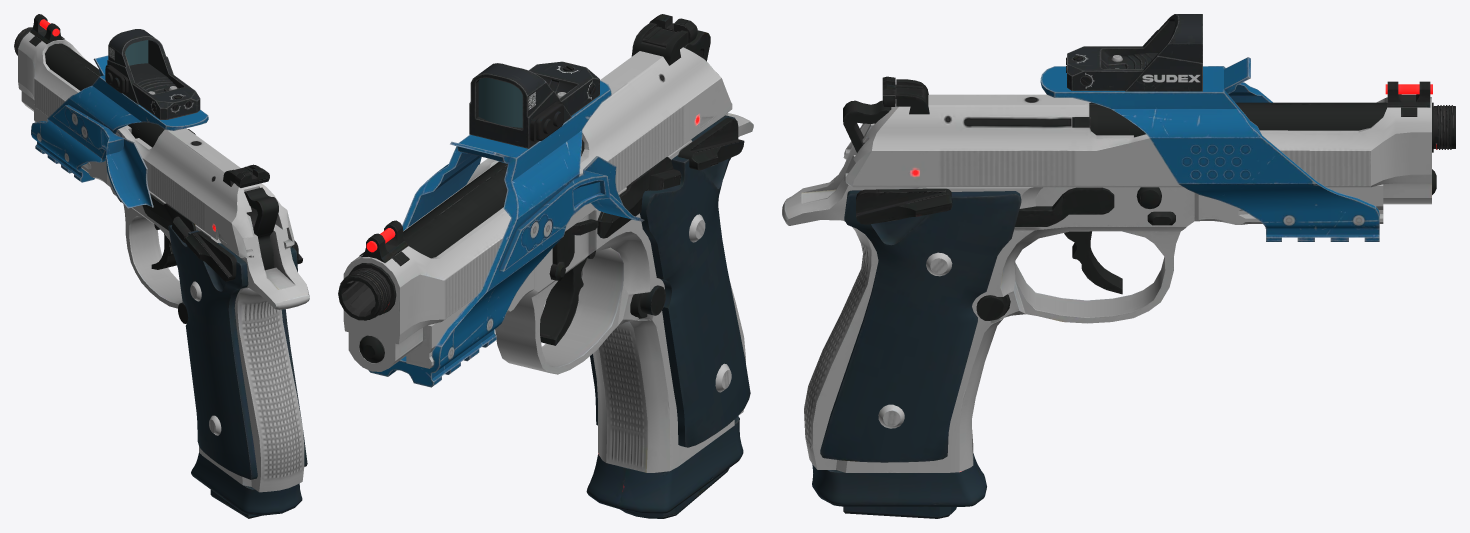
File: beretta92x.glb
3 views of the same model, side by side, from view 1: azimuth 30°, elevation 25°; view 2: azimuth 150°, elevation 25°; view 3: azimuth 270°, elevation 25° (orthographic). The views are drawn at different scales.
Parts seen in each view (by area): view 1: frame, slide, grips, wrap, dot, barrel, hammer, catch, glass, trigger; view 2: frame, slide, wrap, grips, barrel, dot, trigger, catch, glass, mag; view 3: slide, frame, grips, wrap, dot, barrel, trigger, hammer, mag.
Part boxes in pixels (bbox=[...]): frame: bbox=[34, 104, 309, 515]; slide: bbox=[18, 14, 302, 281]; grips: bbox=[168, 225, 307, 479]; wrap: bbox=[31, 55, 208, 208]; dot: bbox=[105, 29, 200, 119]; barrel: bbox=[14, 27, 164, 147]; hammer: bbox=[244, 187, 278, 269]; catch: bbox=[142, 194, 195, 243]; glass: bbox=[125, 40, 148, 65]; trigger: bbox=[151, 233, 176, 269]; frame: bbox=[359, 113, 753, 513]; slide: bbox=[343, 14, 744, 371]; wrap: bbox=[368, 80, 644, 387]; grips: bbox=[590, 115, 750, 447]; barrel: bbox=[338, 139, 584, 320]; dot: bbox=[469, 61, 599, 148]; trigger: bbox=[540, 258, 586, 345]; catch: bbox=[597, 157, 681, 238]; glass: bbox=[478, 78, 522, 127]; mag: bbox=[620, 468, 729, 518]; slide: bbox=[843, 76, 1432, 224]; frame: bbox=[782, 123, 1436, 506]; grips: bbox=[820, 190, 1021, 462]; wrap: bbox=[1040, 57, 1379, 241]; dot: bbox=[1066, 14, 1202, 91]; barrel: bbox=[1089, 102, 1455, 152]; trigger: bbox=[1064, 231, 1122, 294]; hammer: bbox=[843, 100, 891, 152]; mag: bbox=[843, 506, 956, 518].
Bounding box in the file's own units: 0.047 × 0.1778 × 0.2229.
Materials: 3 (2 with a texture image).
